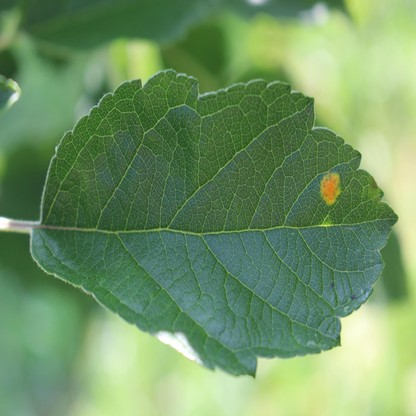rust: (321, 173, 340, 203)
